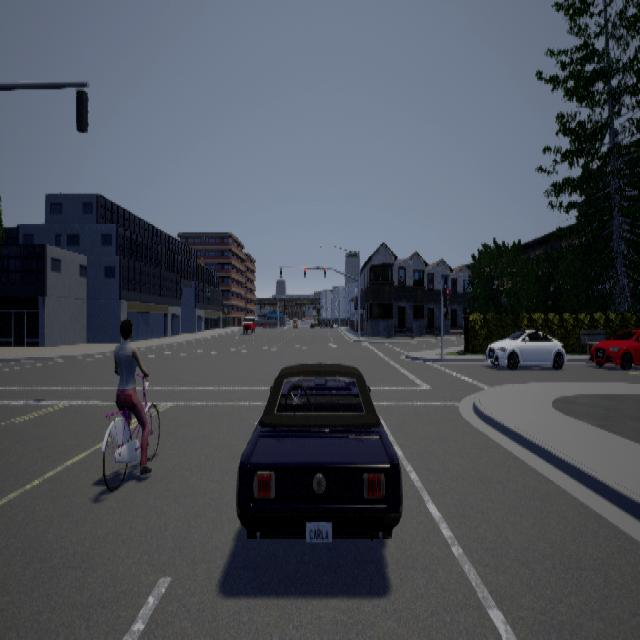bike: (103, 315, 167, 487)
red_light: (324, 267, 326, 277), (304, 267, 306, 277)
traffic_light: (280, 267, 282, 277)
vehicle: (235, 360, 402, 540), (484, 328, 566, 369), (588, 328, 639, 369)
